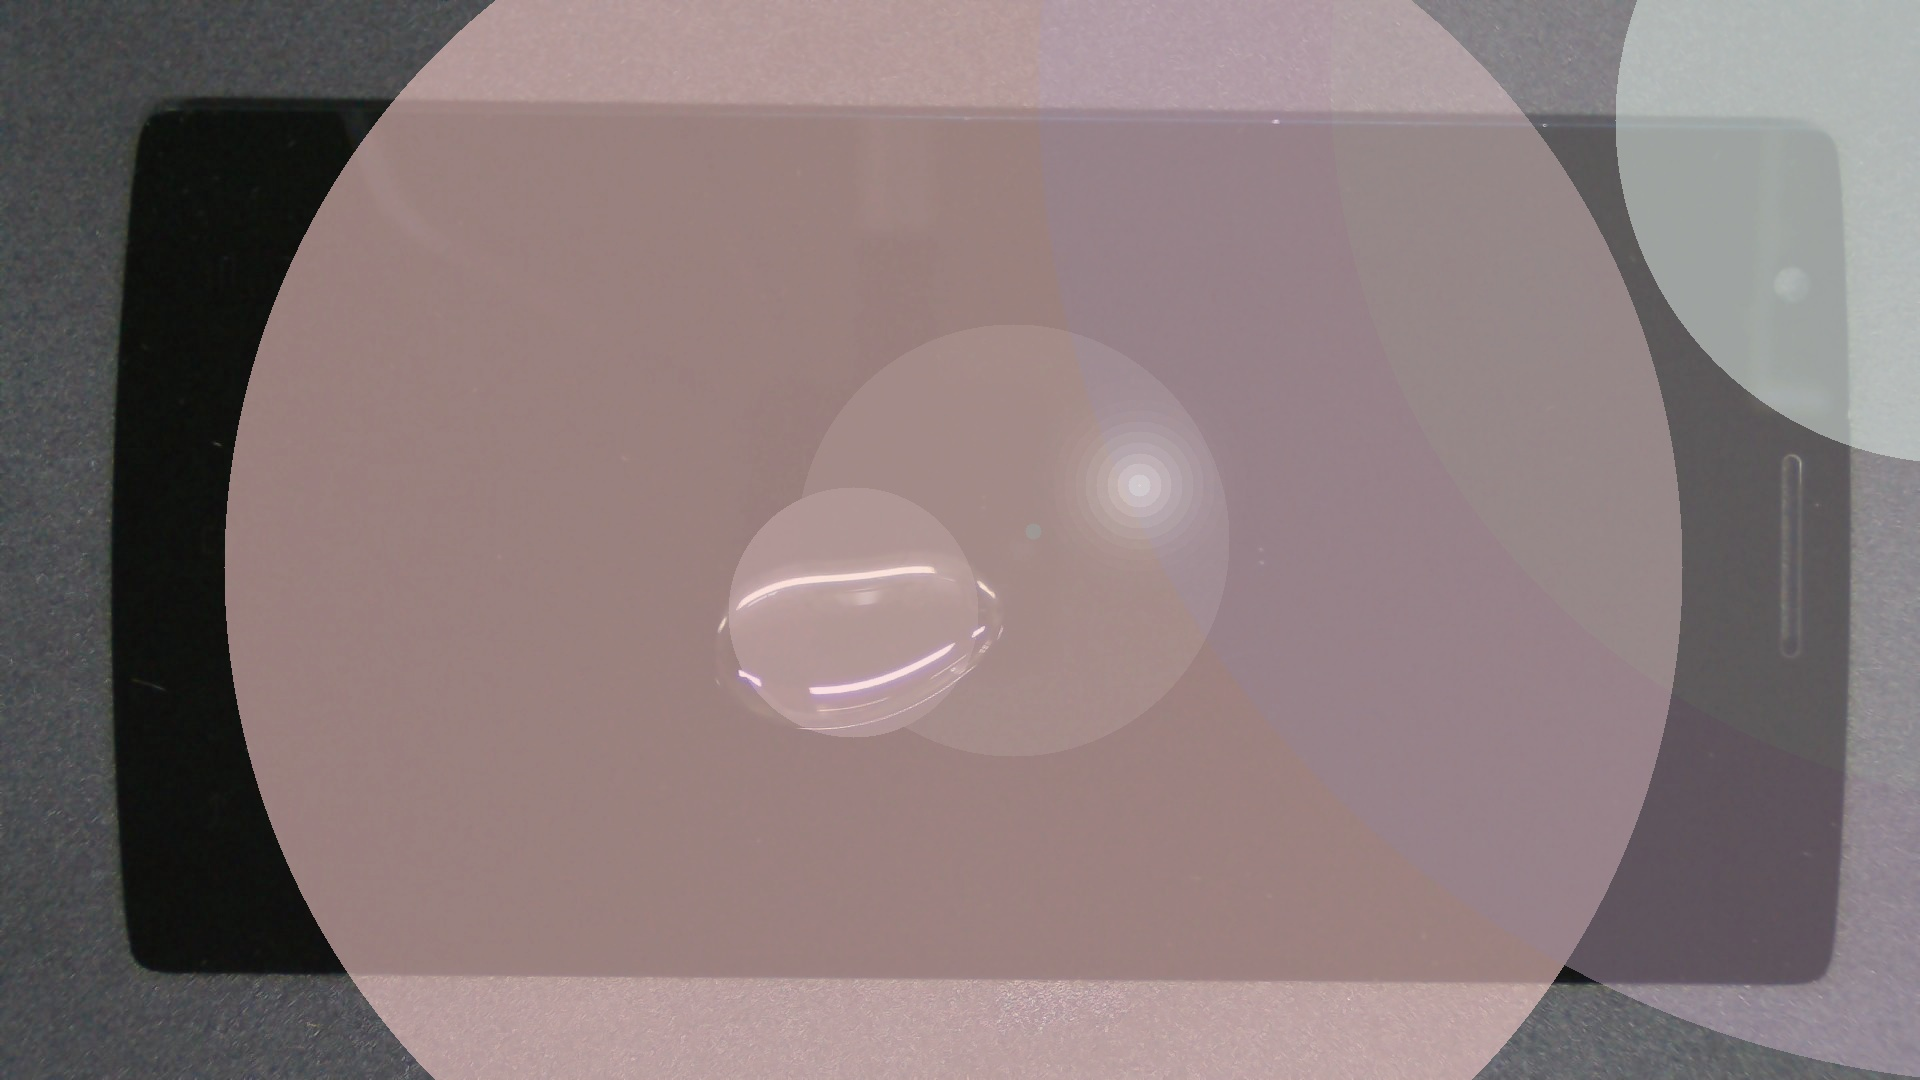oil: (455, 273, 1364, 823)
